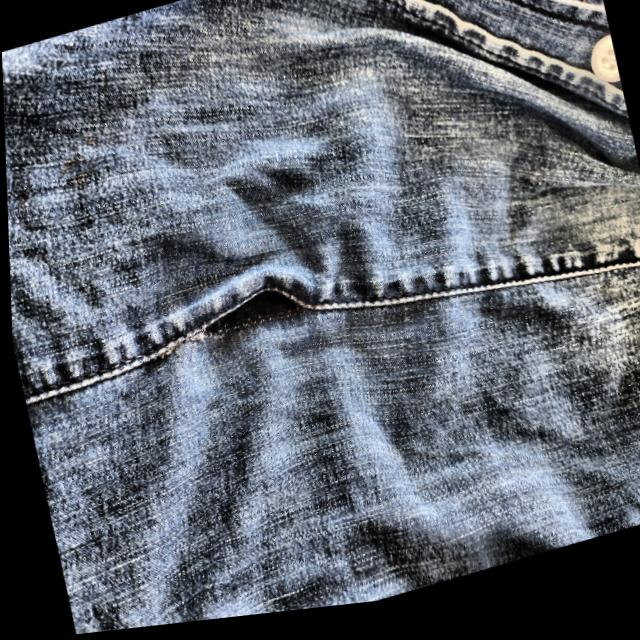seam: (171, 234, 351, 398)
